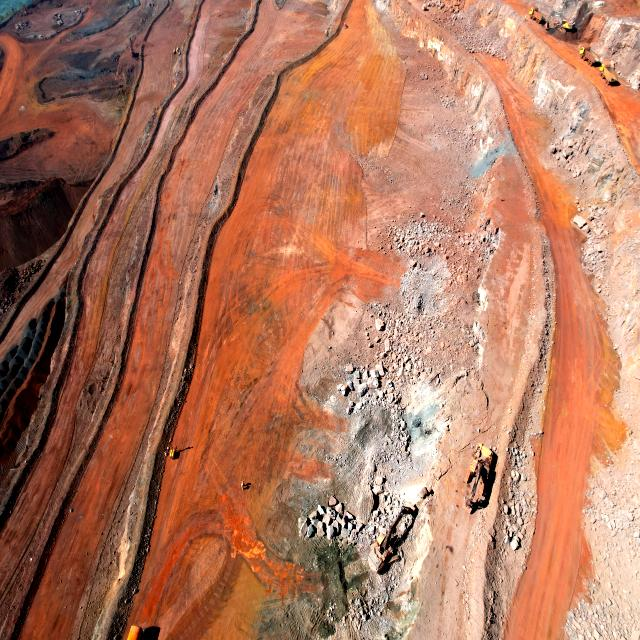Blast rig: (128, 37, 136, 61)
Dumper truck: (600, 60, 616, 84), (580, 46, 598, 66), (528, 5, 545, 22)
Excavator: (466, 443, 496, 514), (546, 8, 575, 32)
person: (524, 14, 527, 22), (500, 195, 502, 201)
